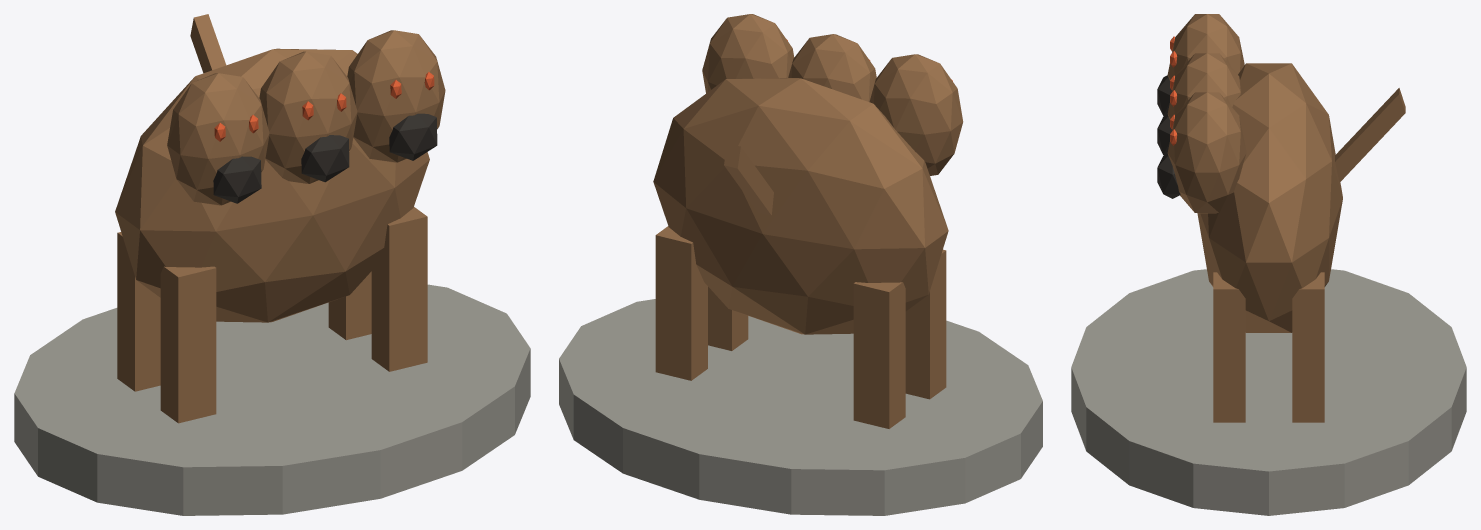
Rendered from chefe_cerbero.glb.
3 renders of one model, left to right at view 1: azimuth 30°, elevation 25°; view 2: azimuth 150°, elevation 25°; view 3: azimuth 270°, elevation 25°, orthographic. The views are drawn at different scales.
Visible parts, largest first — view 1: chefe_cerbero; view 2: chefe_cerbero; view 3: chefe_cerbero.
Part boxes in pixels (bbox=[...]): chefe_cerbero: bbox=[14, 14, 530, 515]; chefe_cerbero: bbox=[559, 14, 1042, 515]; chefe_cerbero: bbox=[1071, 14, 1466, 515].
Bounding box in the file's own units: 10 × 8 × 8.
